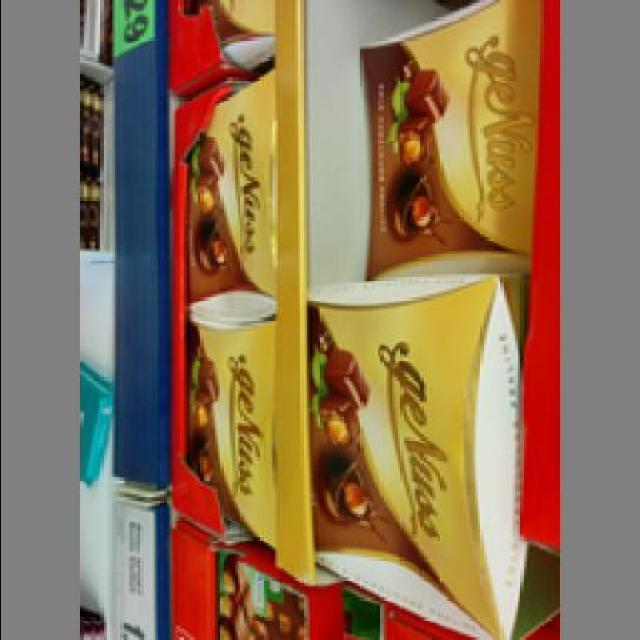Chocolate bar: (311, 270, 529, 626), (357, 2, 543, 276)
